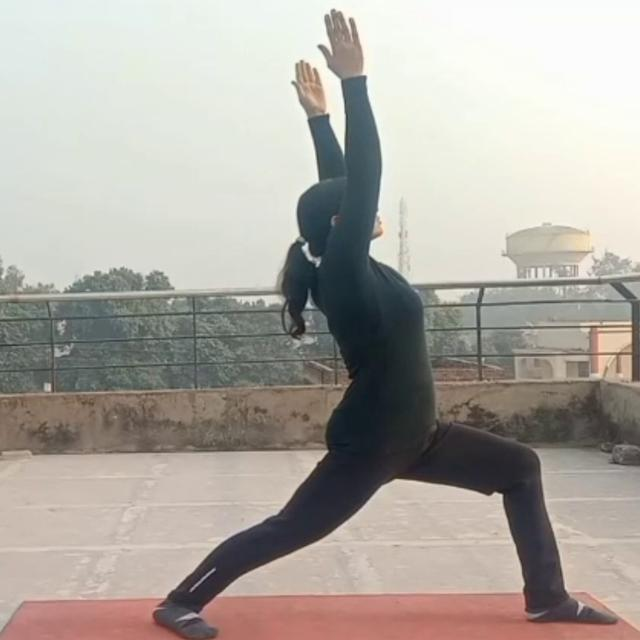Warrior_I: (143, 6, 623, 640)
